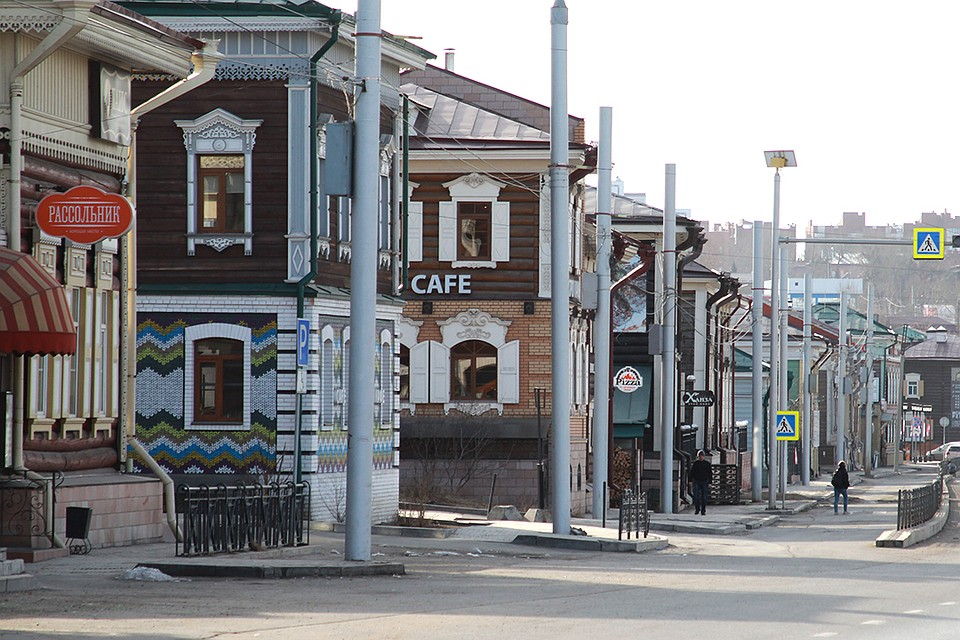sign: (911, 224, 947, 261), (293, 313, 313, 368), (772, 408, 802, 441)
